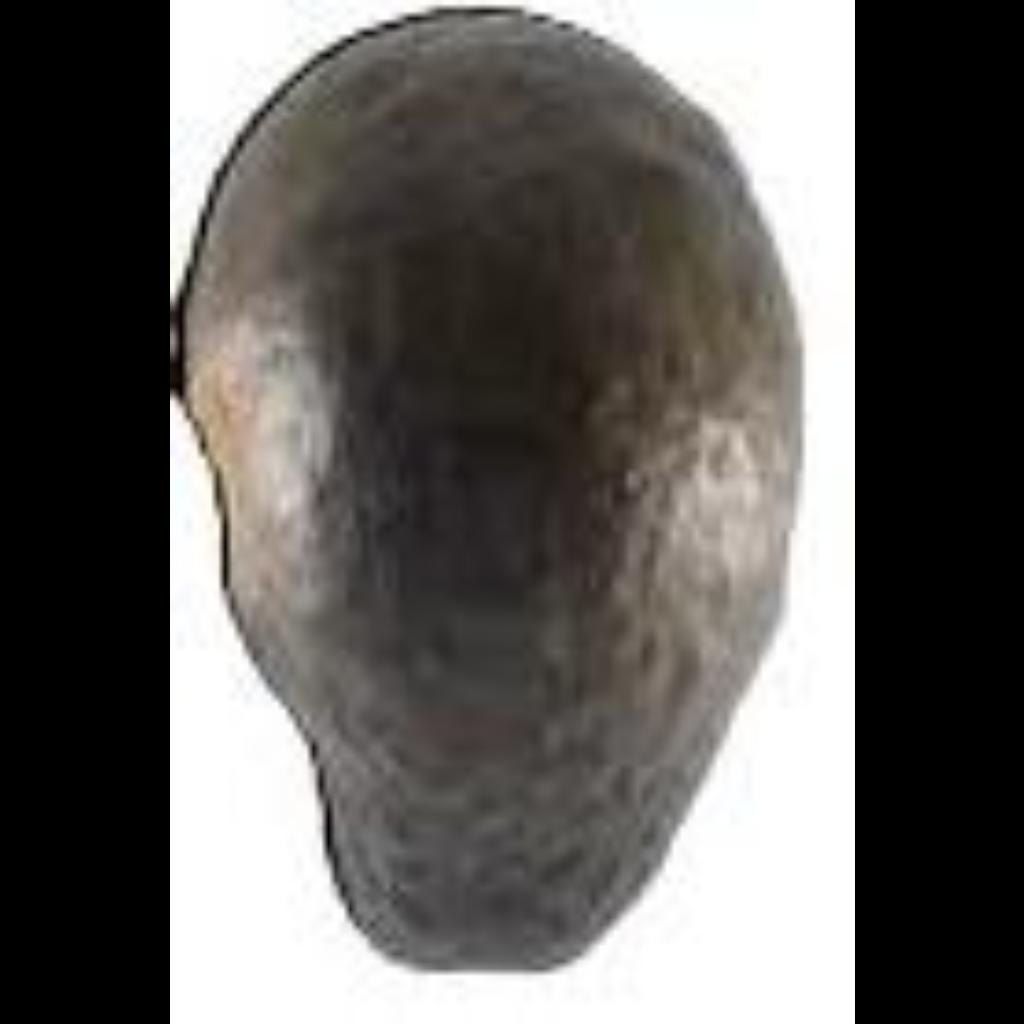Anthracnose: (210, 48, 792, 954)
